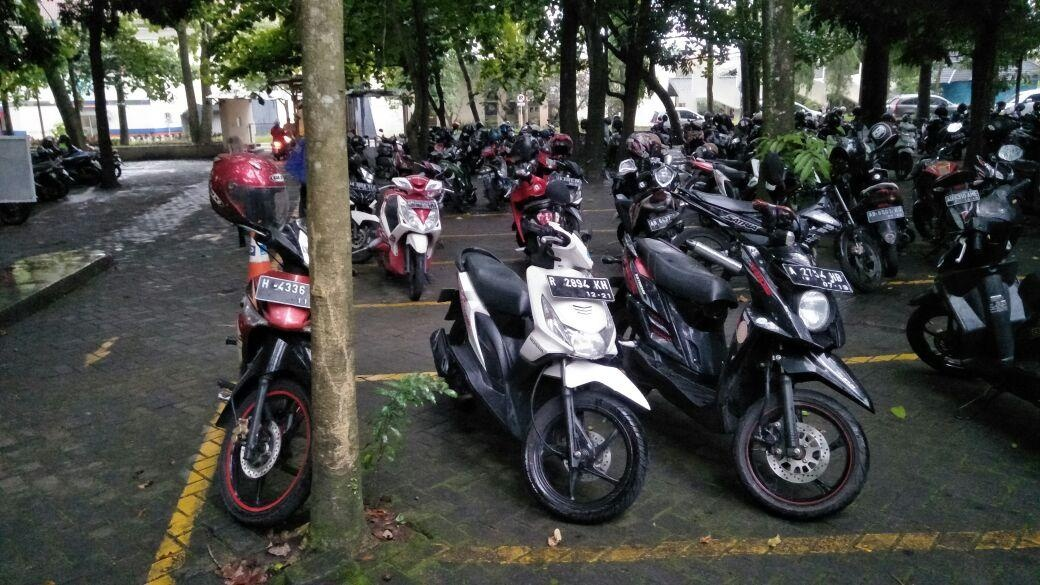plate: (781, 261, 856, 296), (549, 276, 616, 300)
